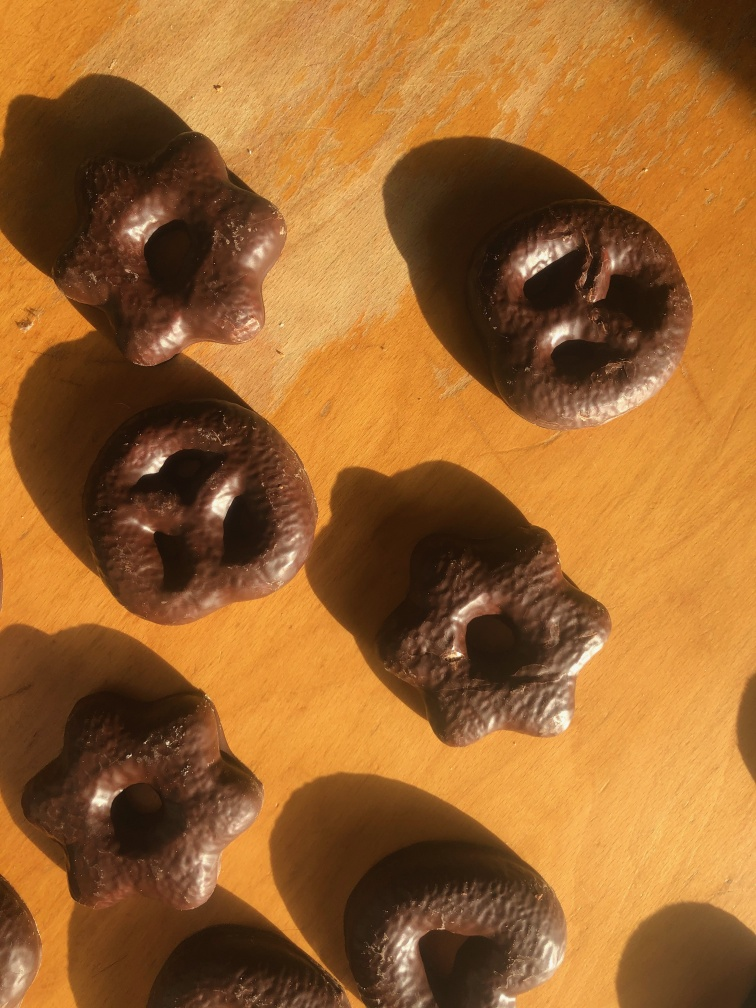bretzel: (452, 190, 697, 443), (75, 397, 318, 627)
star: (14, 680, 259, 922), (49, 129, 288, 367), (368, 522, 616, 751), (340, 838, 569, 1008)
